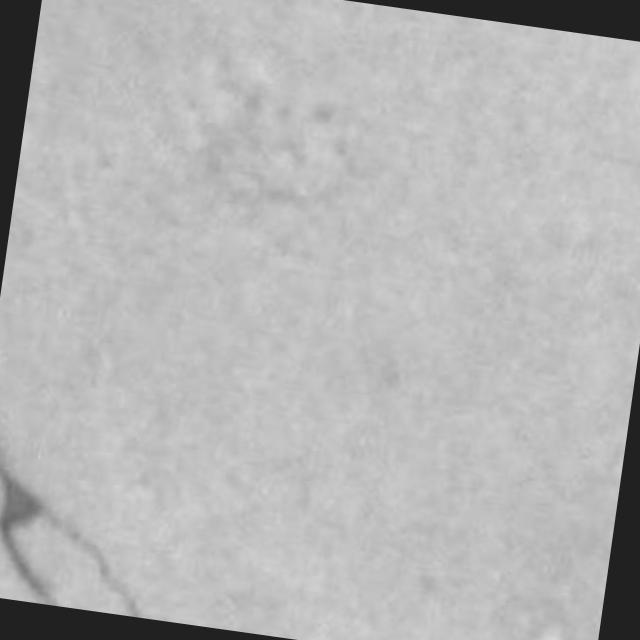crack: (0, 454, 141, 617)
